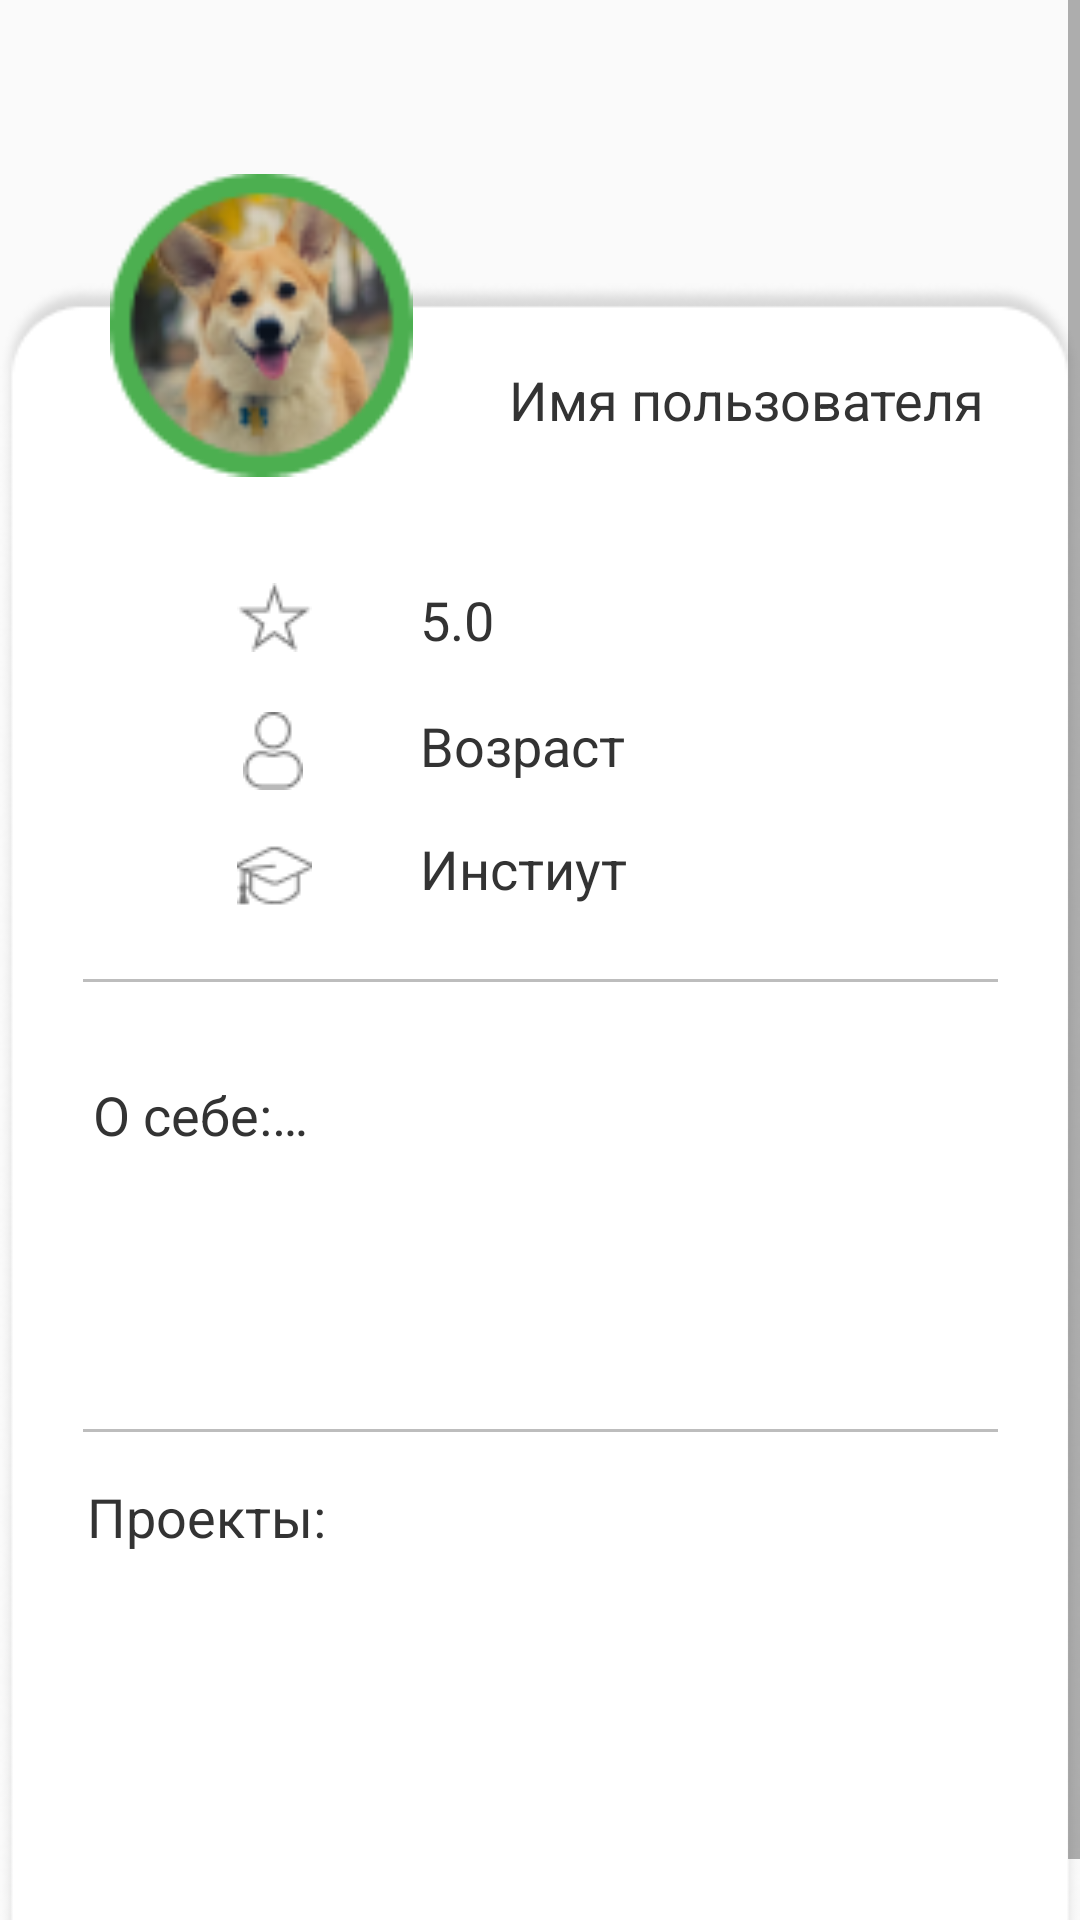

Named icons in this screenshot (1080×1920) and their bounding boxes, (x1=x1, y1=y1, x2=x2, y2=y2):
edu: (x1=237, y1=846, x2=312, y2=905)
rating star: (x1=240, y1=583, x2=309, y2=652)
user: (x1=243, y1=712, x2=303, y2=790)
